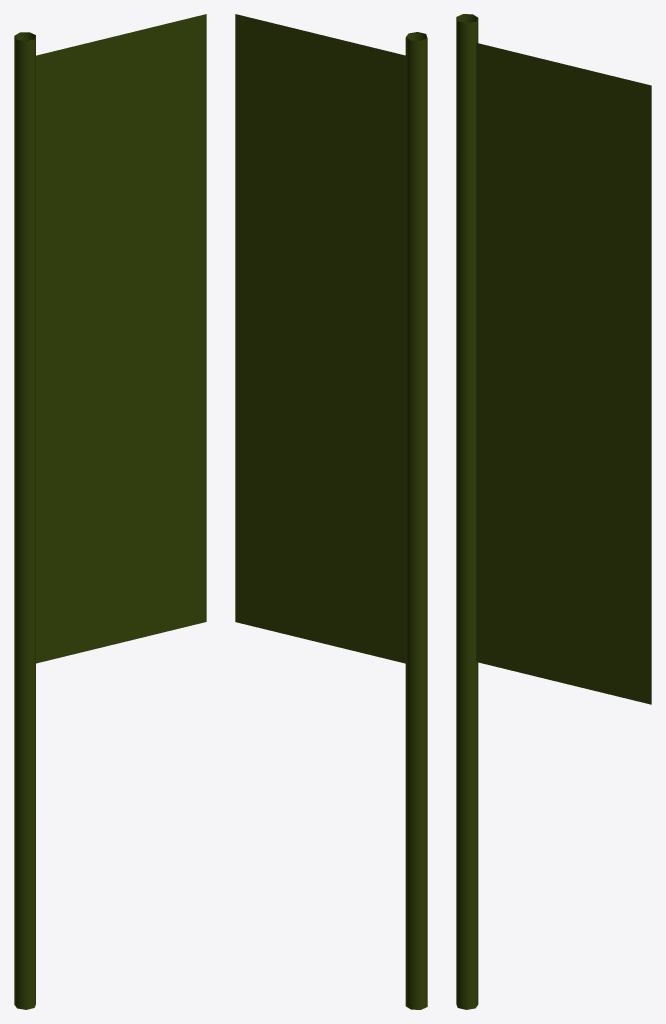
File: Flag_T2_M.fbx
3 renders of one model, left to right at view 1: azimuth 30°, elevation 25°; view 2: azimuth 150°, elevation 25°; view 3: azimuth 330°, elevation 25°, orthographic.
Parts seen in each view (by area): view 1: Flag_T2, Flag_Pole; view 2: Flag_T2, Flag_Pole; view 3: Flag_T2, Flag_Pole.
Boxes of the visible parts, box(x1,y1,x2,y2) form: Flag_T2: box(36, 14, 206, 663); Flag_Pole: box(14, 32, 35, 1009); Flag_T2: box(235, 14, 405, 663); Flag_Pole: box(405, 32, 427, 1009); Flag_T2: box(476, 43, 651, 704); Flag_Pole: box(456, 14, 478, 1009).
Size of the model in its own units: 0.754 by 3.66 by 0.073.
